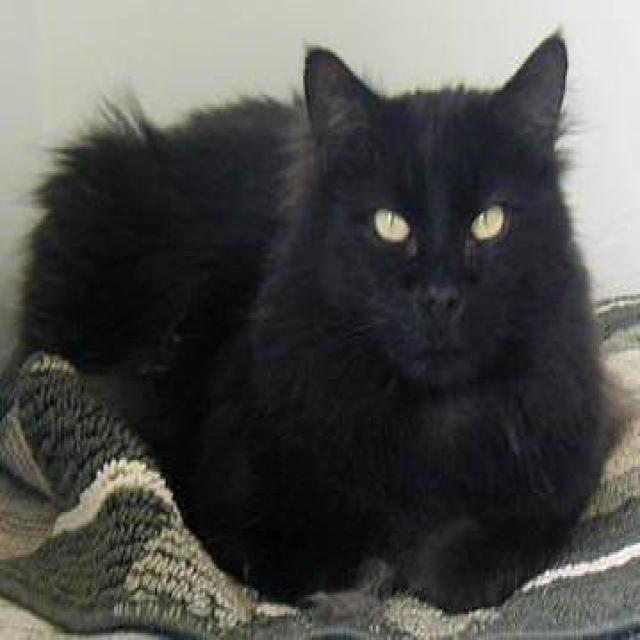cat: (9, 26, 608, 621)
